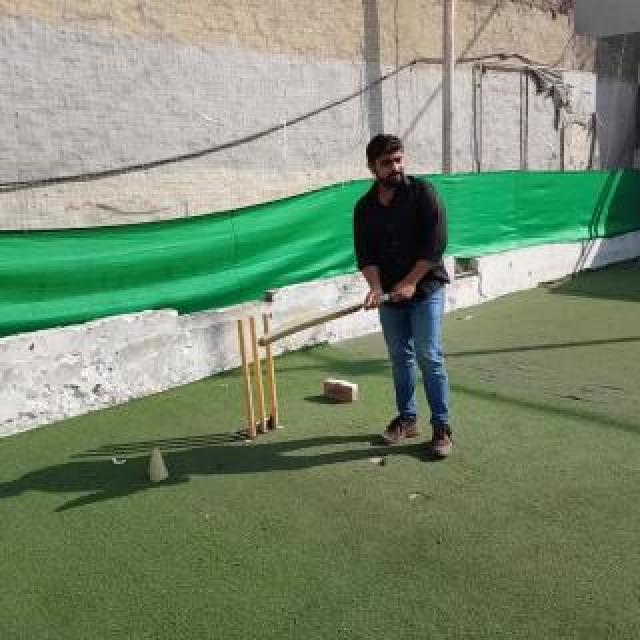bat: (258, 291, 396, 347)
